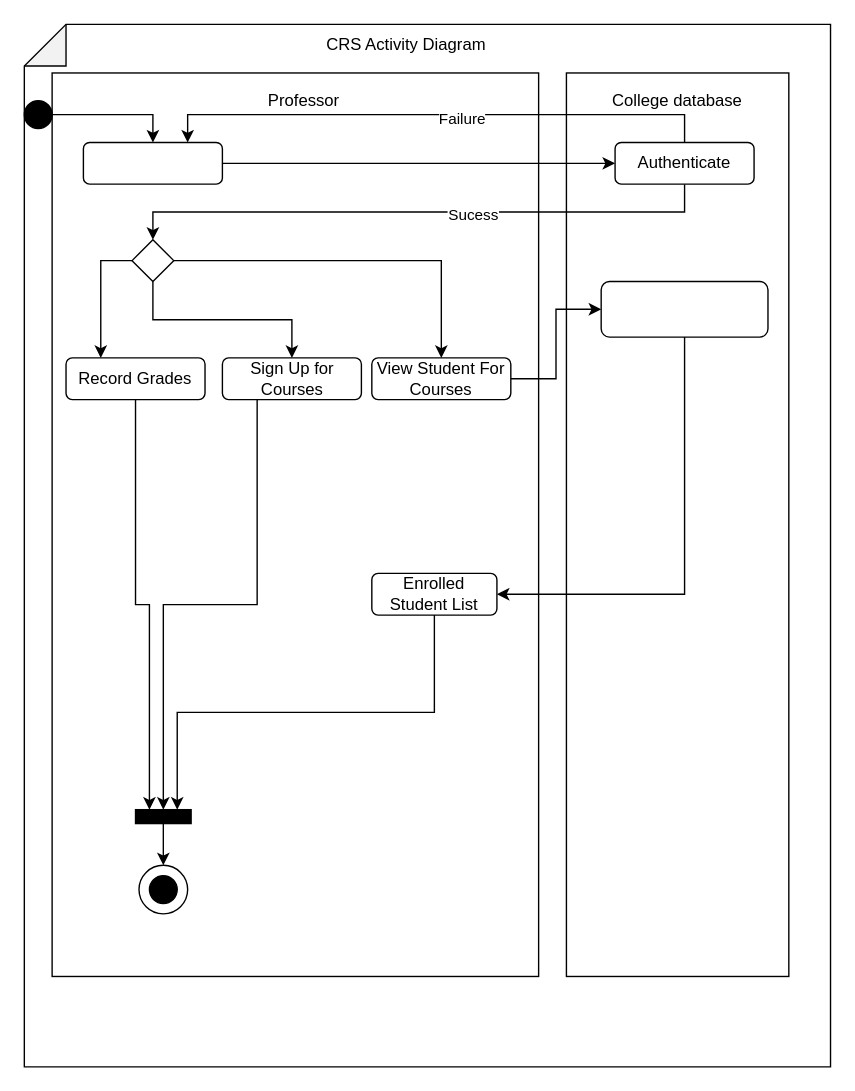
Some shapes in this 855 by 1091 pixel diagram are drawn without their labels. Here are the shapes that lost their labels. From the top down, the centre of each, then its label:
(x=152, y=162): Sign in
(x=684, y=308): Get Student List
